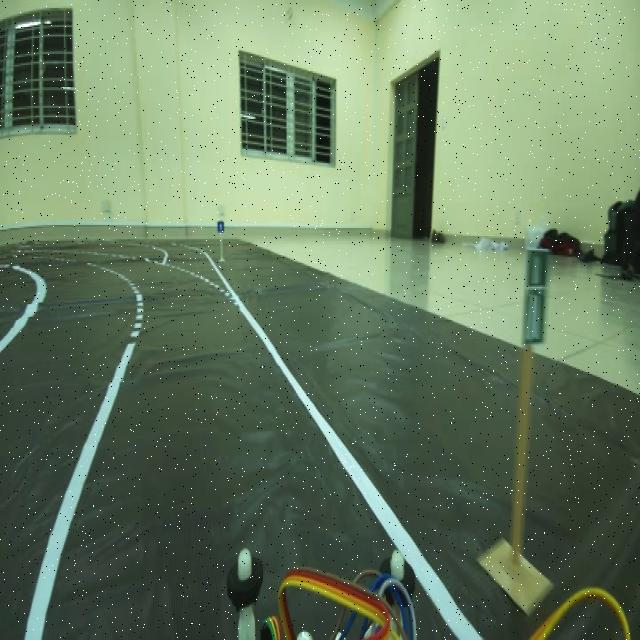highway_entry: (516, 237, 558, 354)
